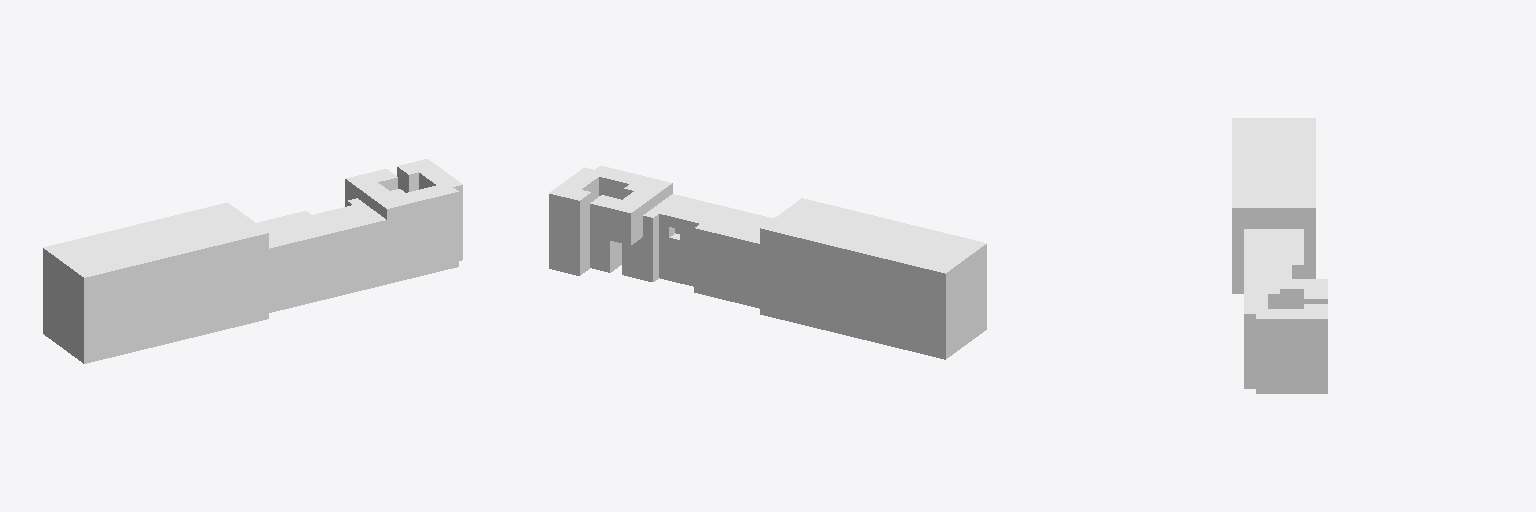
Rendered from hand_empty.obj.
3 views of the same model, side by side, from view 1: azimuth 30°, elevation 25°; view 2: azimuth 150°, elevation 25°; view 3: azimuth 270°, elevation 25° (orthographic).
Visible parts, largest first — view 1: object 1; view 2: object 1; view 3: object 1.
Boxes of the visible parts, box(x1,y1,x2,y2) form: object 1: box(43, 159, 462, 363); object 1: box(549, 166, 986, 359); object 1: box(1232, 118, 1327, 393).
Bounding box in the file's own units: 3.8 × 0.8 × 0.8.